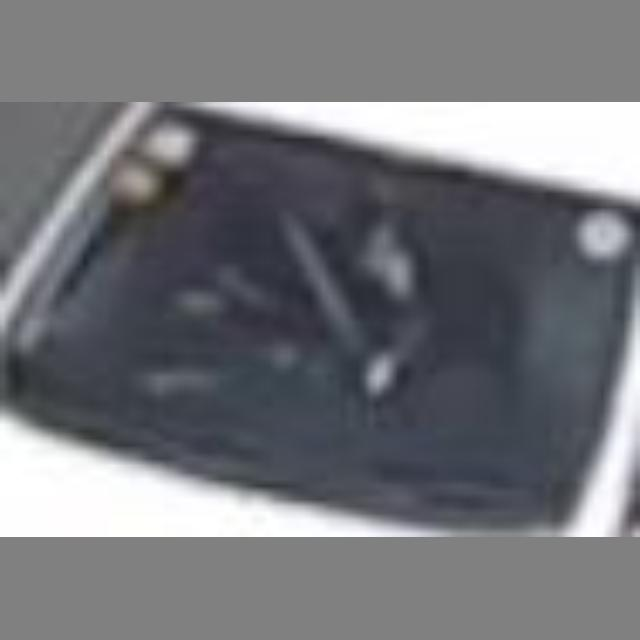pakai: (211, 156, 443, 408)
